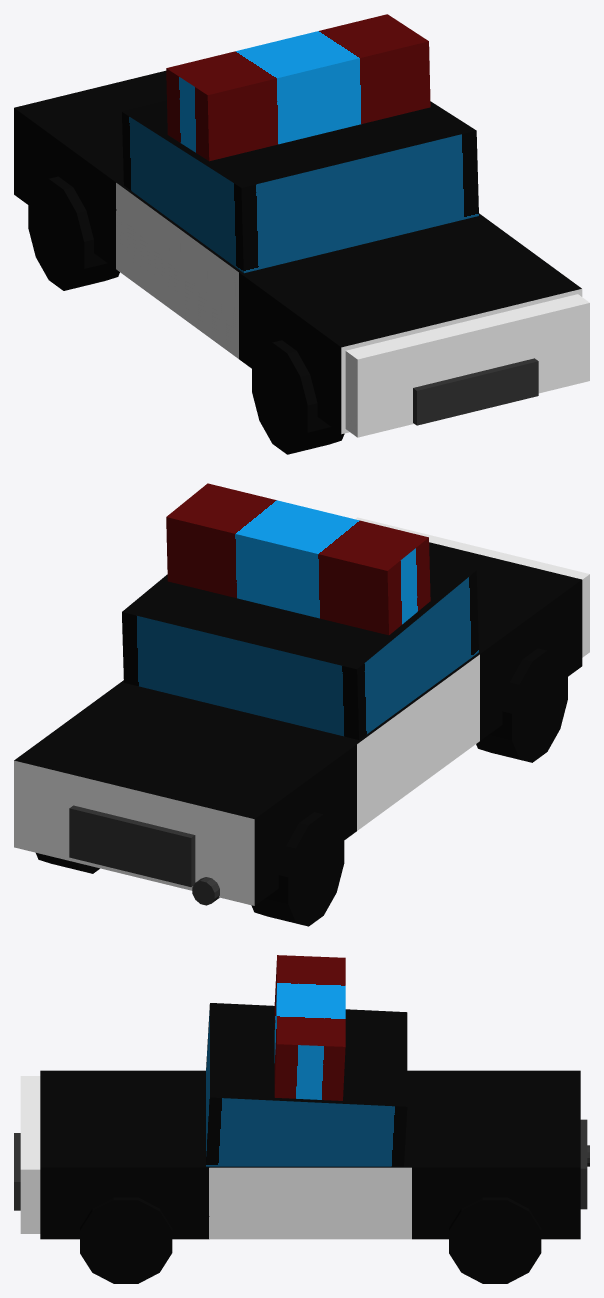
File: police.gltf
3 renders of one model, top to bottom at view 1: azimuth 30°, elevation 25°; view 2: azimuth 150°, elevation 25°; view 3: azimuth 270°, elevation 25°, orthographic. The views are drawn at different scales.
Parts seen in each view (by area): view 1: Chassi, cylinder (×2), Placa_frente, circle (×2); view 2: Chassi, cylinder (×3), Placa_fundo, circle (×2); view 3: Chassi, cylinder (×2), Placa_fundo, Placa_frente.
Part boxes in pixels (x1=…): Chassi: x1=14, y1=14, x2=589, y2=437; cylinder (×2): x1=28, y1=176, x2=344, y2=454; Placa_frente: x1=413, y1=358, x2=538, y2=425; circle (×2): x1=368, y1=322, x2=584, y2=407; Chassi: x1=14, y1=483, x2=589, y2=905; cylinder (×3): x1=192, y1=648, x2=567, y2=926; Placa_fundo: x1=69, y1=805, x2=195, y2=886; circle (×2): x1=26, y1=783, x2=241, y2=869; Chassi: x1=20, y1=955, x2=580, y2=1239; cylinder (×2): x1=80, y1=1197, x2=541, y2=1283; Placa_fundo: x1=580, y1=1119, x2=587, y2=1209; Placa_frente: x1=14, y1=1133, x2=20, y2=1210.
Size of the model in its own units: 0.5813 by 0.6095 by 1.37.
Materials: 9 (7 with a texture image).
